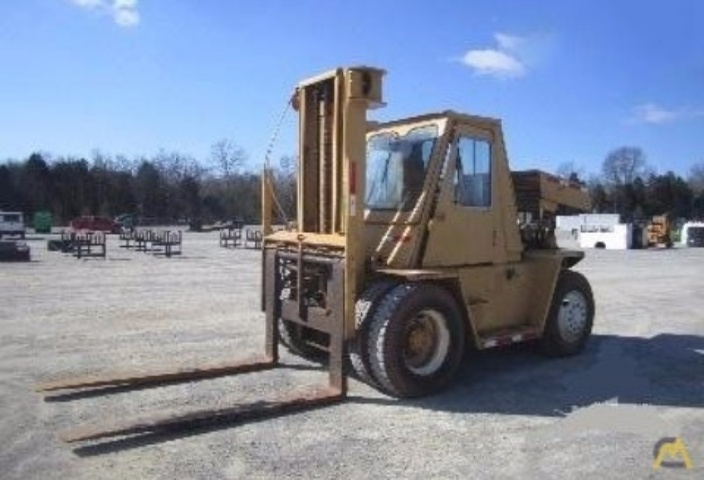industrial: (28, 53, 605, 471)
